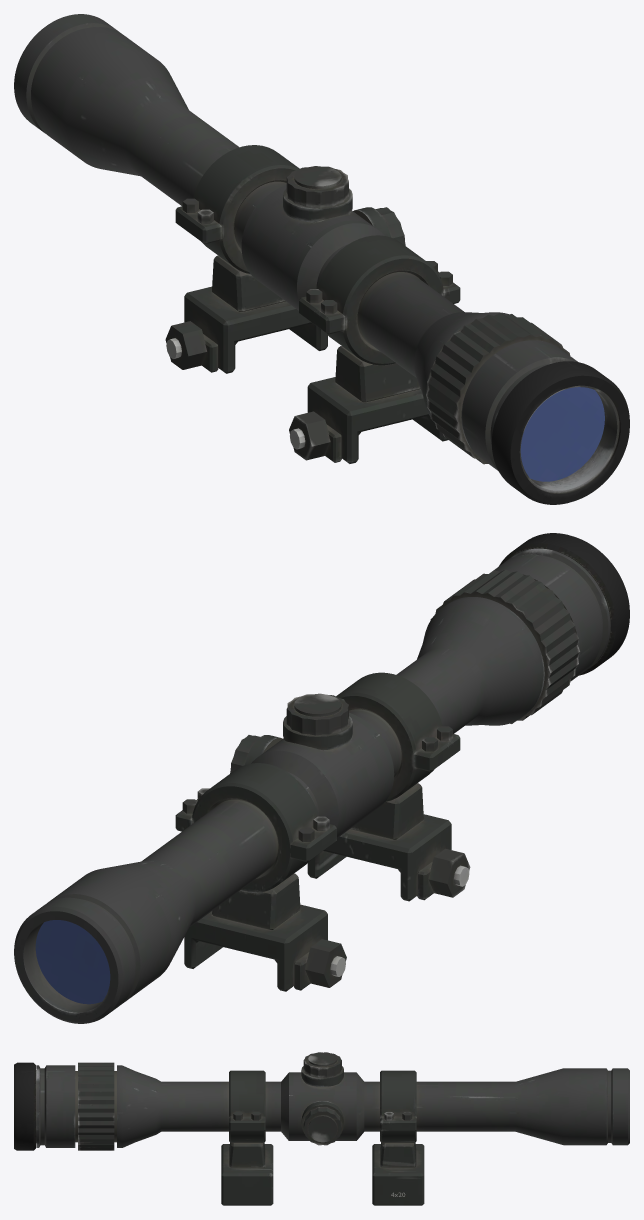
File: luneta_4x_22.glb
3 views of the same model, one above another, from view 1: azimuth 30°, elevation 25°; view 2: azimuth 150°, elevation 25°; view 3: azimuth 270°, elevation 25° (orthographic). The views are drawn at different scales.
Parts seen in each view (by area): view 1: luneta_4x_22_luneta, luneta_4x_22_lente; view 2: luneta_4x_22_luneta, luneta_4x_22_lente; view 3: luneta_4x_22_luneta.
Part boxes in pixels (x1,y1,x2,y2): luneta_4x_22_luneta: (14,14,629,504); luneta_4x_22_lente: (520,387,604,481); luneta_4x_22_luneta: (14,533,629,1023); luneta_4x_22_lente: (35,920,110,1004); luneta_4x_22_luneta: (14,1052,629,1205).
Size of the model in its own units: 0.0434 by 0.0562 by 0.2366.
Materials: 1 (1 with a texture image).
